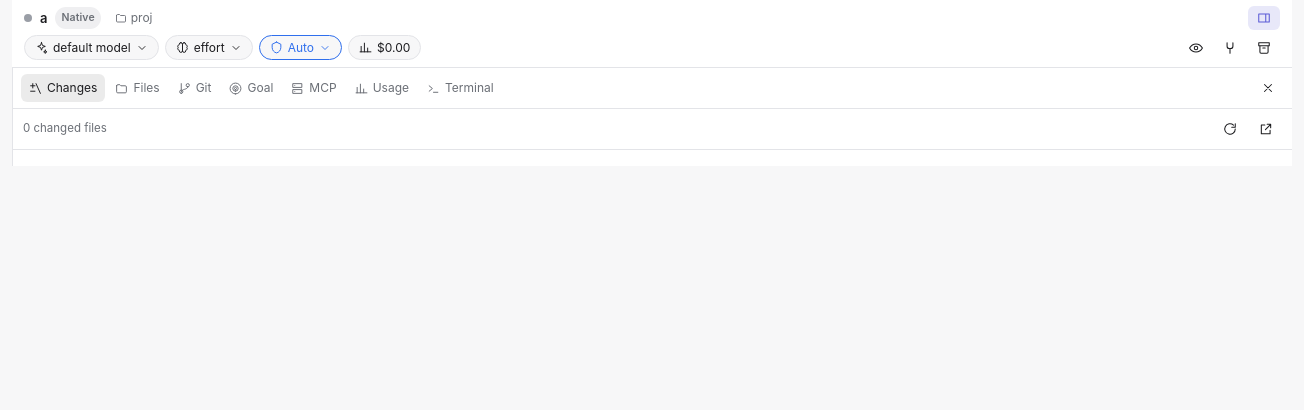
it: shared renderer Git reads › retries a failed shared summary on explicit refresh and updates both consumers
The width and height of the screenshot is (1304, 410).
Click the button titled "Refresh": click(1230, 129) [1214, 117, 1246, 141]
Wait 100 ms
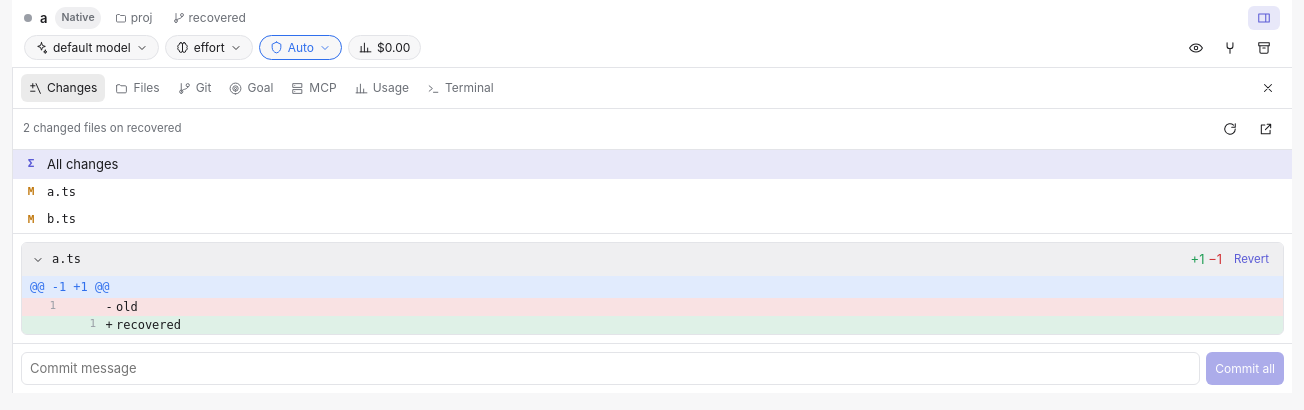
Now the button titled "Branch recovered — open the Git panel" is shown, box [166, 6, 252, 30]
Now the number of buttons "recovered" is 2, box [166, 6, 252, 30]; [116, 318, 181, 332]
